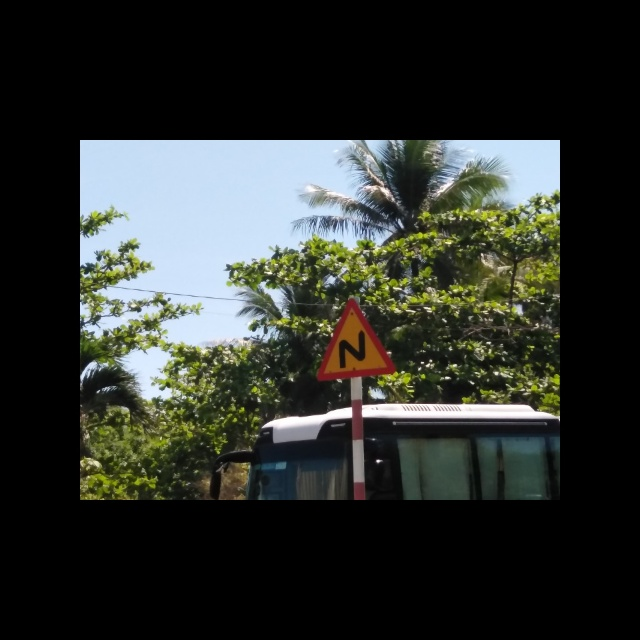Ngoặt nguy hiểm liên tiếp bên phải: (318, 295, 396, 380)
